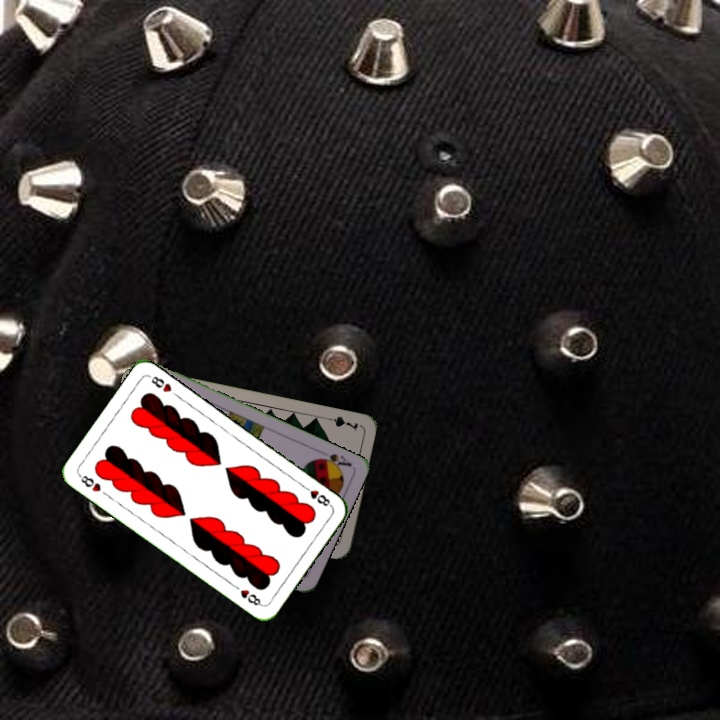G7: (321, 412, 361, 433)
H8: (299, 481, 335, 509), (75, 471, 104, 495)
SA: (312, 449, 354, 472)
